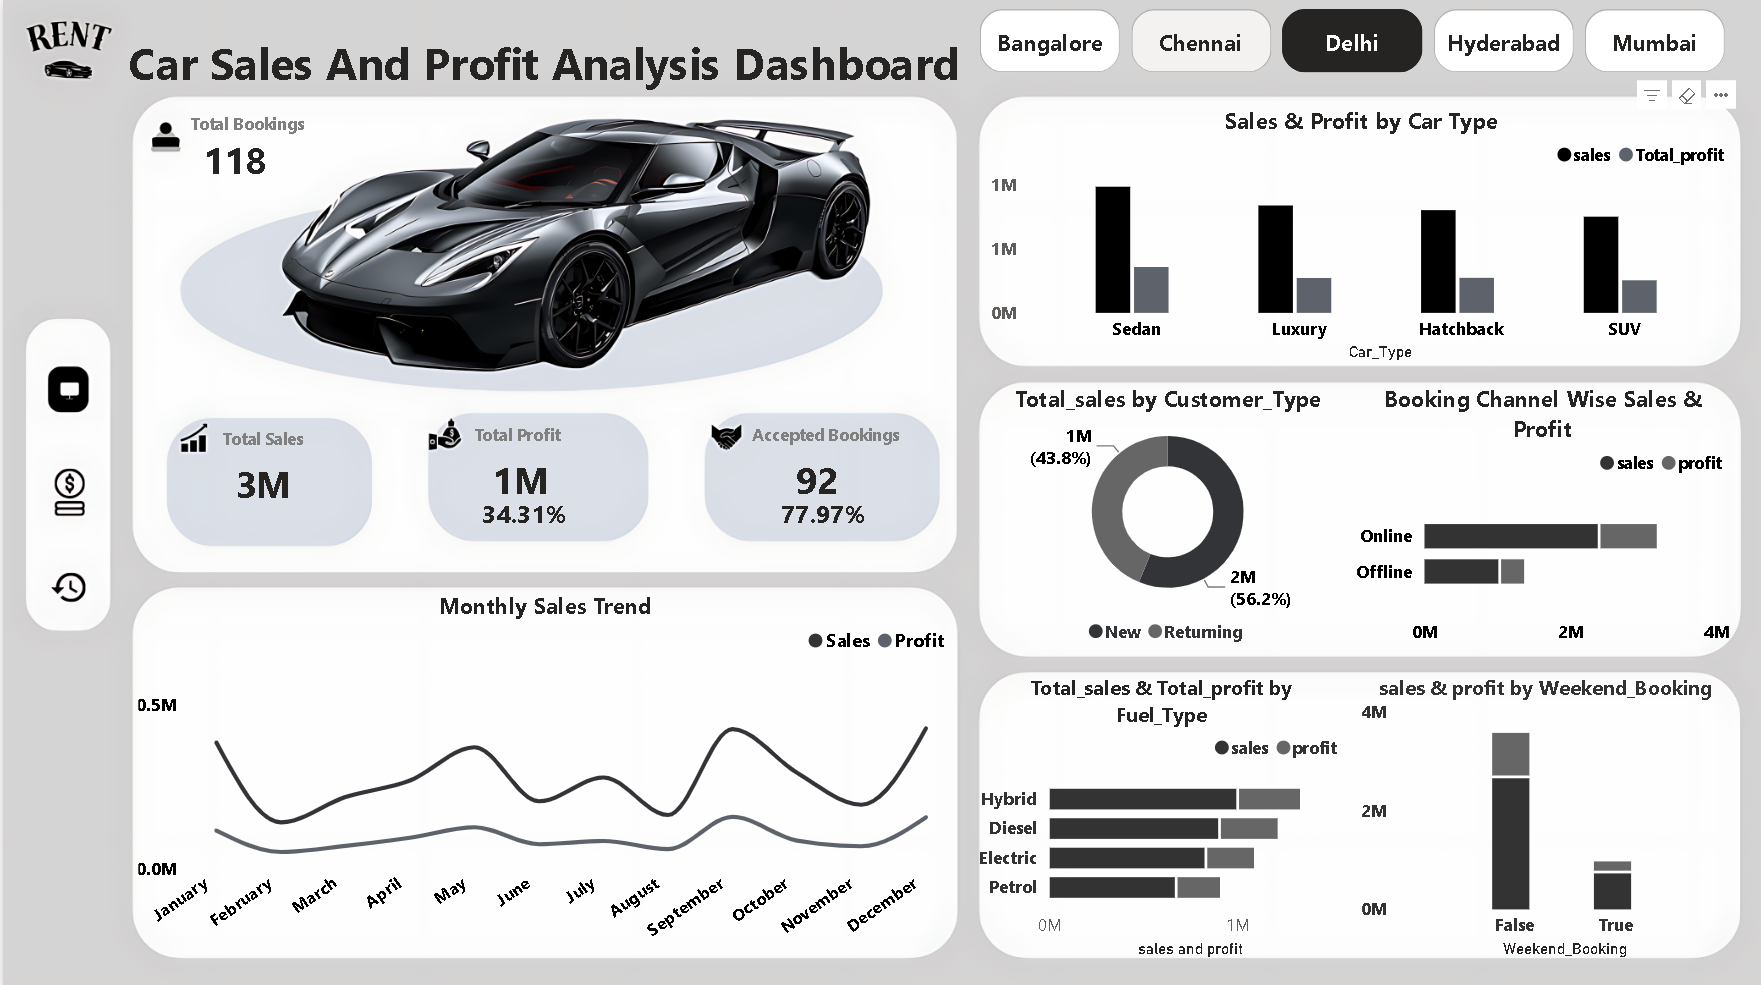

The dashboard page shown, as its layout file describes it:
{"tool":"powerbi","page":{"name":"Page 1","canvas":[1280,720],"ordinal":0},"visuals":[{"type":"textbox","box":[82.2,18.8,623.3,56.3],"z":0},{"type":"cardVisual","fields":{"Data":["RentCarSales_analysis_dataset.Total_Bookings"]},"box":[112.5,83.7,114,62],"z":1000},{"type":"cardVisual","fields":{"Data":["RentCarSales_analysis_dataset.profit_margin"]},"box":[311.6,336.2,135.6,72.1],"z":2000},{"type":"cardVisual","fields":{"Data":["RentCarSales_analysis_dataset.Accepted_booking"]},"box":[529.5,301.5,127,92.3],"z":3000},{"type":"cardVisual","fields":{"Data":["RentCarSales_analysis_dataset.Accepted_rade"]},"box":[529.5,336.2,135.6,72.1],"z":4000},{"type":"lineChart","title":"Monthly Sales Trend","fields":{"Category":["RentCarSales_analysis_dataset.Booking_Month"],"Y":["Sum(RentCarSales_analysis_dataset.Sales_Amount)","Sum(RentCarSales_analysis_dataset.Profit)"]},"box":[93.8,428.5,601.6,272.7],"z":5000},{"type":"clusteredColumnChart","title":"Sales & Profit by Car Type","fields":{"Category":["RentCarSales_analysis_dataset.Car_Type"],"Y":["RentCarSales_analysis_dataset.Total_sales","RentCarSales_analysis_dataset.Total_profit"]},"box":[714.2,75,546.8,191.9],"z":6000},{"type":"donutChart","fields":{"Category":["RentCarSales_analysis_dataset.Customer_Type"],"Y":["RentCarSales_analysis_dataset.Total_sales"]},"box":[714.2,277,265.5,200.5],"z":7000},{"type":"barChart","title":"Booking Channel Wise Sales & Profit","fields":{"Category":["RentCarSales_analysis_dataset.Booking_Channel"],"Y":["RentCarSales_analysis_dataset.Total_sales","RentCarSales_analysis_dataset.Total_profit"]},"box":[979.6,277,279.9,200.5],"z":8000},{"type":"barChart","title":"Total_sales & Total_profit by Fuel_Type","fields":{"Category":["RentCarSales_analysis_dataset.Fuel_Type"],"Y":["RentCarSales_analysis_dataset.Total_sales","RentCarSales_analysis_dataset.Total_profit"]},"box":[705.5,489.1,274.1,212.1],"z":9000},{"type":"columnChart","title":"sales & profit by Weekend_Booking","fields":{"Category":["RentCarSales_analysis_dataset.Weekend_Booking"],"Y":["RentCarSales_analysis_dataset.Total_sales","RentCarSales_analysis_dataset.Total_profit"]},"box":[984,489.1,277,212.1],"z":10000},{"type":"advancedSlicerVisual","fields":{"Values":["RentCarSales_analysis_dataset.From_City"]},"box":[705.5,1.4,555.5,56.3],"z":11000},{"type":"textbox","box":[131.3,75,116.9,34.6],"z":12000},{"type":"cardVisual","fields":{"Data":["RentCarSales_analysis_dataset.Total_sales"]},"box":[119.7,318.9,139.9,62],"z":13000},{"type":"cardVisual","fields":{"Data":["RentCarSales_analysis_dataset.Total_profit"]},"box":[307.3,316,139.9,62],"z":14000},{"type":"textbox","box":[154.4,304.4,116.9,34.6],"z":15000},{"type":"textbox","box":[337.6,301.5,116.9,34.6],"z":16000},{"type":"textbox","box":[539.6,301.5,129.8,34.6],"z":17000}]}

Visuals, with their boxes in screenshot pixels (x1, y1, x2, y2), scaled from the page's 1280x720 canvas onto the 1761x985 screenshot:
textbox: rect(113, 26, 971, 103)
cardVisual - RentCarSales_analysis_dataset.Total_Bookings: rect(155, 115, 312, 199)
cardVisual - RentCarSales_analysis_dataset.profit_margin: rect(429, 460, 615, 559)
cardVisual - RentCarSales_analysis_dataset.Accepted_booking: rect(728, 412, 903, 539)
cardVisual - RentCarSales_analysis_dataset.Accepted_rade: rect(728, 460, 915, 559)
"Monthly Sales Trend" lineChart: rect(129, 586, 957, 959)
"Sales & Profit by Car Type" clusteredColumnChart: rect(983, 103, 1735, 365)
donutChart - RentCarSales_analysis_dataset.Customer_Type x RentCarSales_analysis_dataset.Total_sales: rect(983, 379, 1348, 653)
"Booking Channel Wise Sales & Profit" barChart: rect(1348, 379, 1733, 653)
"Total_sales & Total_profit by Fuel_Type" barChart: rect(971, 669, 1348, 959)
"sales & profit by Weekend_Booking" columnChart: rect(1354, 669, 1735, 959)
advancedSlicerVisual - RentCarSales_analysis_dataset.From_City: rect(971, 2, 1735, 79)
textbox: rect(181, 103, 341, 150)
cardVisual - RentCarSales_analysis_dataset.Total_sales: rect(165, 436, 357, 521)
cardVisual - RentCarSales_analysis_dataset.Total_profit: rect(423, 432, 615, 517)
textbox: rect(212, 416, 373, 464)
textbox: rect(464, 412, 625, 460)
textbox: rect(742, 412, 921, 460)
